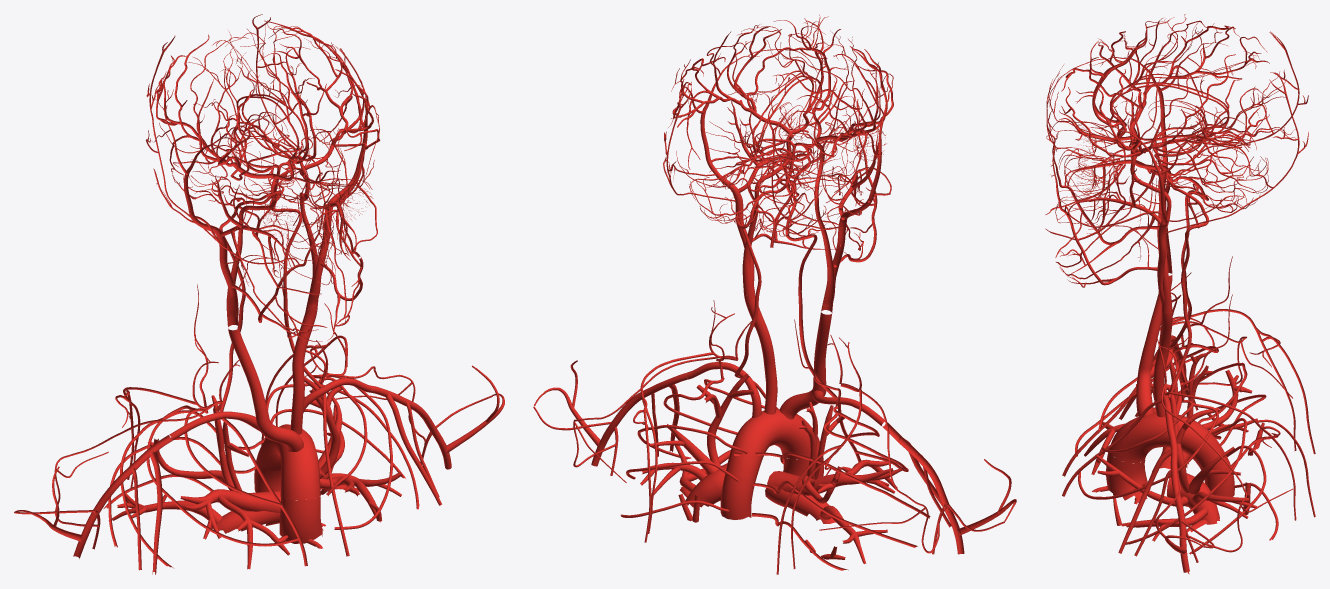
The model's file is arteries.glb.
3 views of the same model, side by side, from view 1: azimuth 30°, elevation 25°; view 2: azimuth 150°, elevation 25°; view 3: azimuth 270°, elevation 25° (orthographic). The views are drawn at different scales.
Visible parts, largest first — view 1: arteries; view 2: arteries; view 3: arteries.
Boxes of the visible parts, x1=… form: arteries: x1=14, y1=14, x2=504, y2=574; arteries: x1=533, y1=14, x2=1016, y2=574; arteries: x1=1045, y1=14, x2=1315, y2=574.
Bounding box in the file's own units: 3.83 × 3.71 × 1.97.
